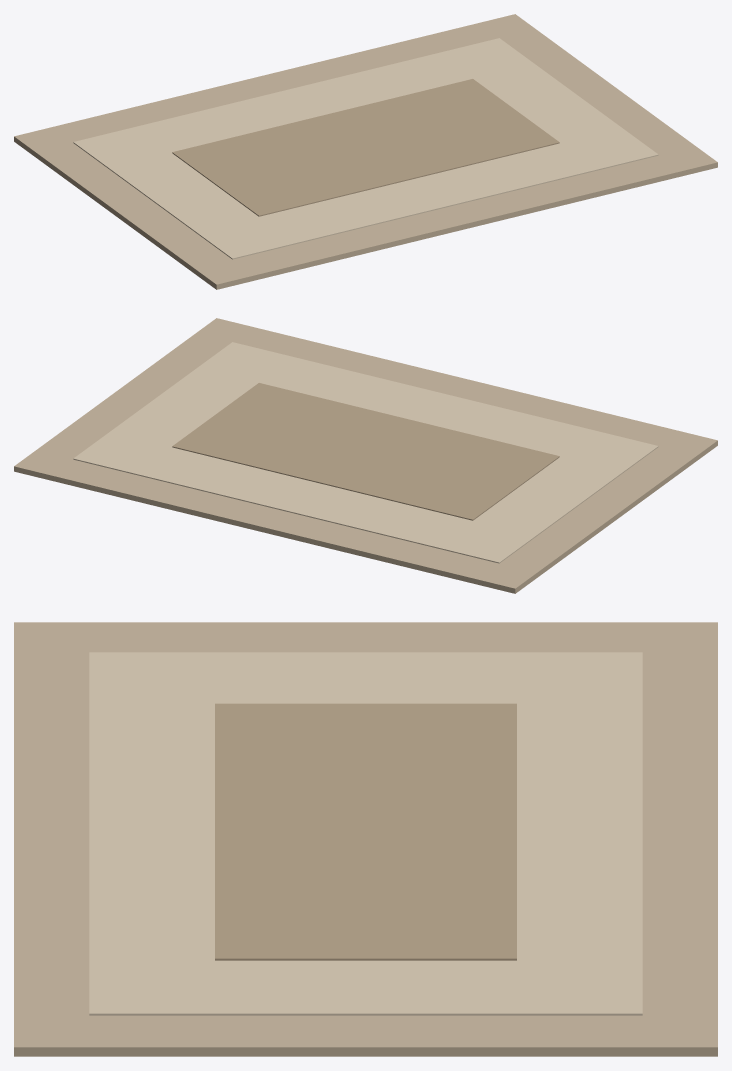
Rendered from rug.glb.
The picture shows the model from 3 angles, top to bottom: view 1: azimuth 30°, elevation 25°; view 2: azimuth 150°, elevation 25°; view 3: azimuth 270°, elevation 25°; orthographic projection. The views are drawn at different scales.
Visible parts, largest first — view 1: rug; view 2: rug; view 3: rug.
Part boxes in pixels (x1,y1,x2,y2): rug: [14, 14, 717, 289]; rug: [14, 318, 717, 593]; rug: [14, 622, 717, 1056].
Bounding box in the file's own units: 2 × 0.028 × 1.4.
